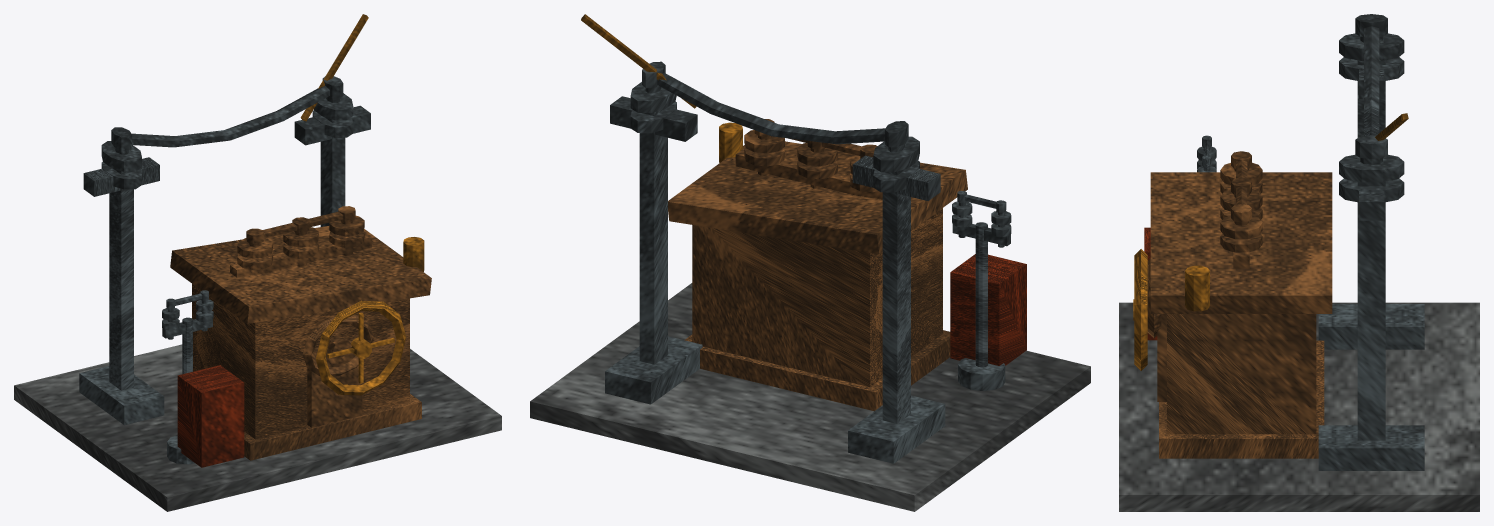
Rendered from east-switchback-line-house.glb.
The picture shows the model from 3 angles, left to right: view 1: azimuth 30°, elevation 25°; view 2: azimuth 150°, elevation 25°; view 3: azimuth 270°, elevation 25°; orthographic projection. The views are drawn at different scales.
Visible parts, largest first — view 1: east-switchback-line-house; view 2: east-switchback-line-house; view 3: east-switchback-line-house.
Boxes of the visible parts, box(x1,y1,x2,y2) form: east-switchback-line-house: box(14, 14, 501, 511); east-switchback-line-house: box(530, 14, 1090, 511); east-switchback-line-house: box(1119, 14, 1479, 511).
Bounding box in the file's own units: 5.8 × 5.48 × 4.6.
Materials: 1 (1 with a texture image).
